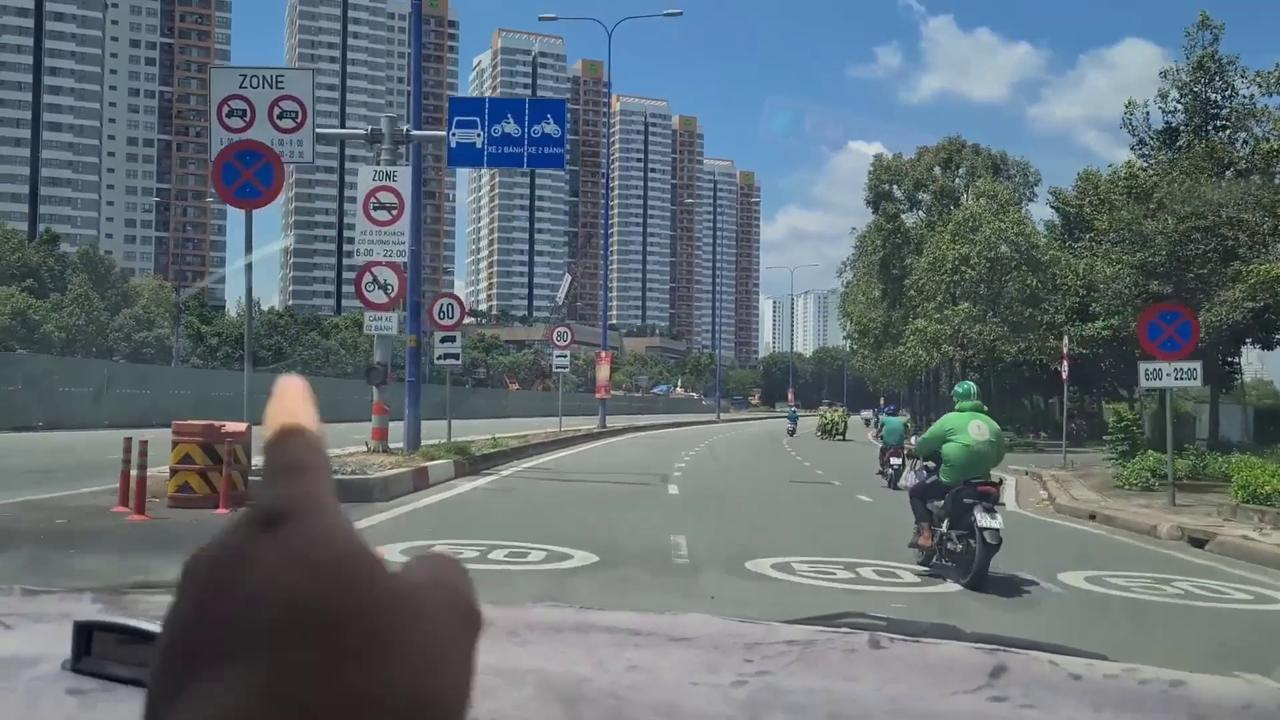Biển phụ: (1136, 360, 1204, 388), (432, 330, 463, 365), (362, 310, 400, 338), (551, 350, 571, 373)
Cấm cac phương tiện hoạt động trong khung giờ cố định: (205, 64, 318, 166), (356, 165, 410, 262)
Cấm dừng - Cấm đỗ: (210, 138, 287, 212), (1135, 300, 1202, 362)
Cấm xe máy: (354, 260, 406, 312)
GIơi hạn tốc độ 60Km/h: (428, 291, 466, 331)
Giới hạn tốc độ 80Km/h: (550, 323, 575, 350)
Làn đường cho từng xe: (444, 94, 568, 172)
